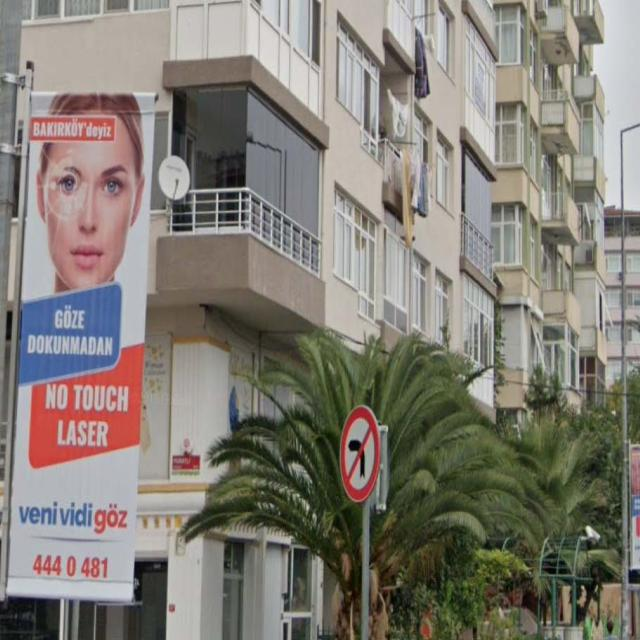soladonulmez: (339, 406, 379, 503)
